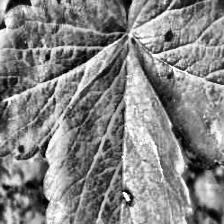Leaf Spot: (42, 33, 195, 224), (0, 0, 129, 161), (127, 0, 224, 174), (191, 164, 224, 211)
